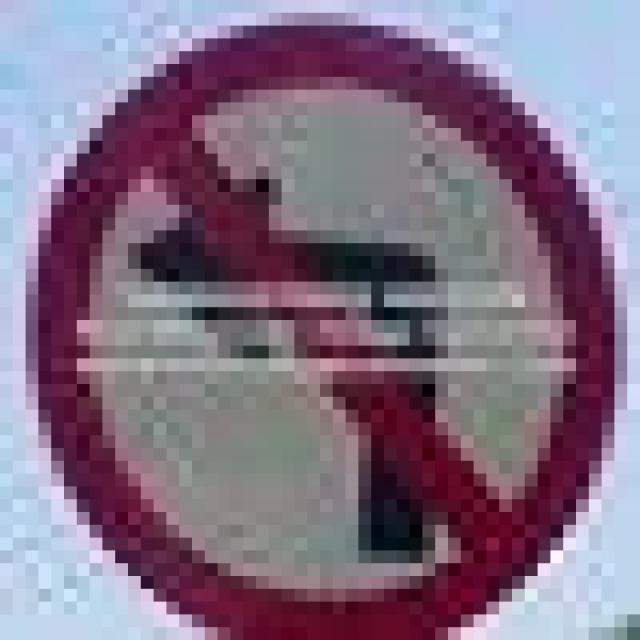LEFT_TURN_PROHIBITED: (13, 13, 627, 627)
